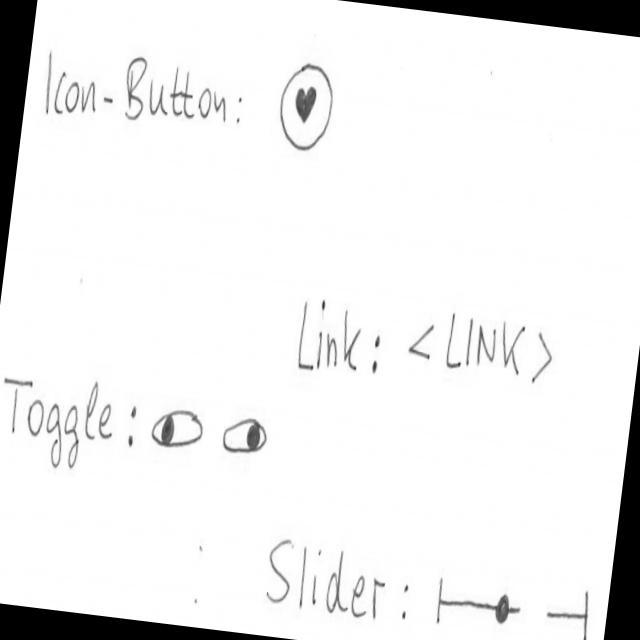icon-button: (272, 55, 338, 158)
link: (402, 298, 562, 394)
slider: (429, 568, 597, 640)
toggle: (147, 398, 208, 456), (218, 408, 270, 458)
